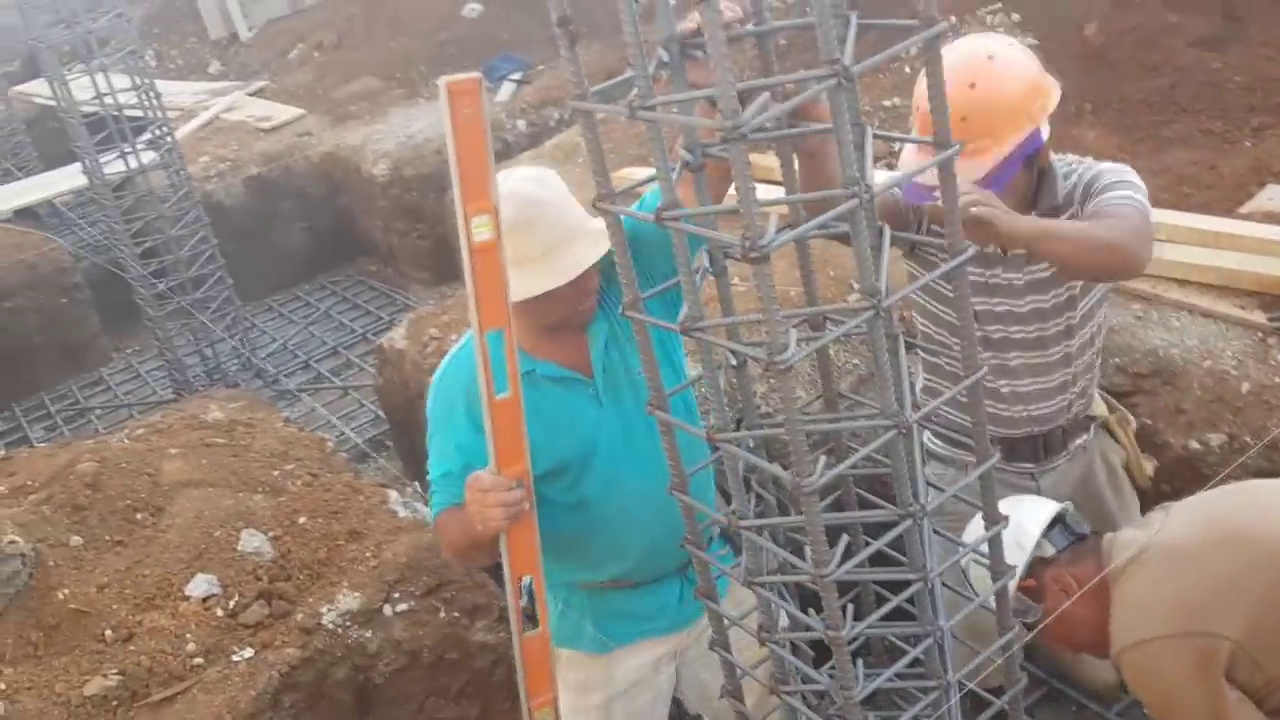helmet: (911, 34, 1050, 182), (951, 491, 1060, 608)
helmet-off: (458, 166, 619, 375)
helmet-on: (913, 32, 1064, 232), (961, 486, 1108, 662)
person: (395, 12, 790, 720), (877, 31, 1164, 585), (909, 474, 1280, 720)
